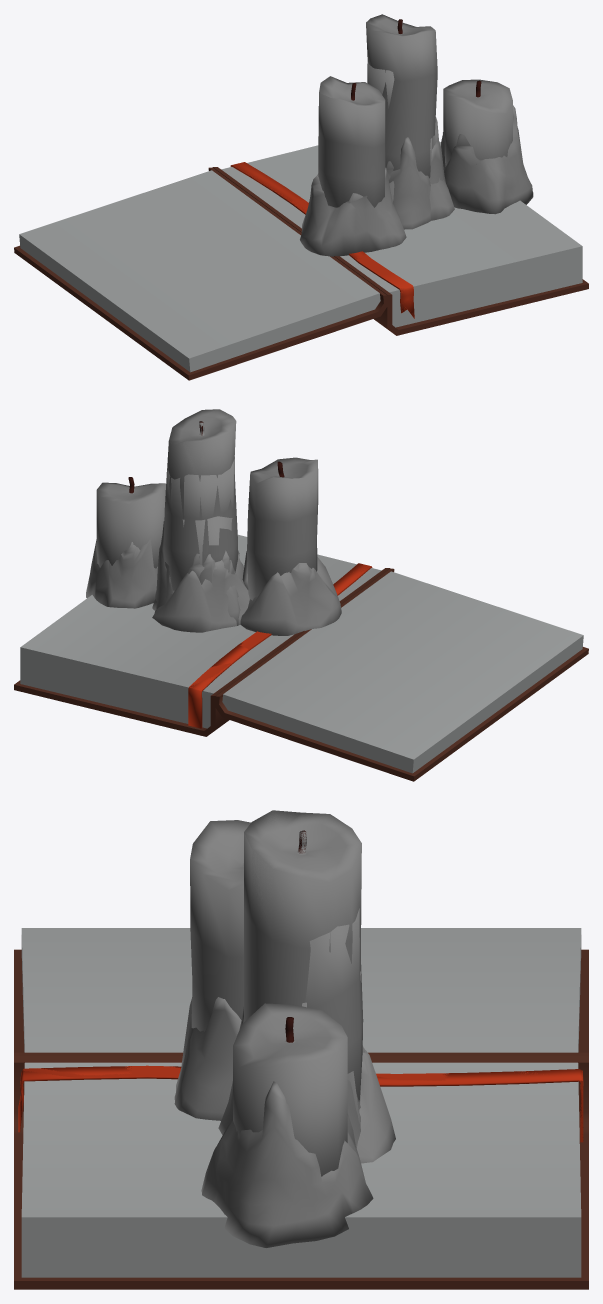
File: Open_book.fbx
The picture shows the model from 3 angles, top to bottom: view 1: azimuth 30°, elevation 25°; view 2: azimuth 150°, elevation 25°; view 3: azimuth 270°, elevation 25°; orthographic projection. The views are drawn at different scales.
Parts seen in each view (by area): view 1: Book_1_1, Candle_1_4, Open_book, Book1_2, Candle_1_1, Candle_1_3, Book_1_bookmark, Candle_1_2; view 2: Book_1_1, Candle_1_4, Open_book, Book1_2, Candle_1_3, Candle_1_2, Book_1_bookmark, Candle_1_1; view 3: Book1_2, Candle_1_4, Book_1_1, Open_book, Candle_1_2, Candle_1_3, Book_1_bookmark, Candle_1_1.
Part boxes in pixels (left/top/right/bottom): Book_1_1: left=14, top=167, right=388, bottom=380; Candle_1_4: left=300, top=15, right=533, bottom=256; Open_book: left=209, top=141, right=588, bottom=334; Book1_2: left=212, top=145, right=588, bottom=335; Candle_1_1: left=389, top=130, right=435, bottom=229; Candle_1_3: left=367, top=62, right=454, bottom=220; Book_1_bookmark: left=230, top=162, right=414, bottom=318; Candle_1_2: left=370, top=14, right=445, bottom=184; Book_1_1: left=213, top=568, right=588, bottom=781; Candle_1_4: left=86, top=409, right=341, bottom=635; Open_book: left=14, top=535, right=392, bottom=736; Book1_2: left=14, top=535, right=389, bottom=735; Candle_1_3: left=152, top=456, right=249, bottom=632; Candle_1_2: left=167, top=409, right=243, bottom=584; Book_1_bookmark: left=188, top=563, right=370, bottom=728; Candle_1_1: left=152, top=516, right=240, bottom=625; Book1_2: left=14, top=1056, right=588, bottom=1289; Candle_1_4: left=174, top=810, right=373, bottom=1247; Book_1_1: left=14, top=928, right=588, bottom=1056; Open_book: left=14, top=1052, right=588, bottom=1280; Candle_1_2: left=244, top=810, right=361, bottom=1103; Candle_1_3: left=260, top=908, right=395, bottom=1163; Book_1_bookmark: left=18, top=1066, right=583, bottom=1132; Candle_1_1: left=218, top=971, right=365, bottom=1134.
Size of the model in its own units: 30 by 41.77 by 22.13.
